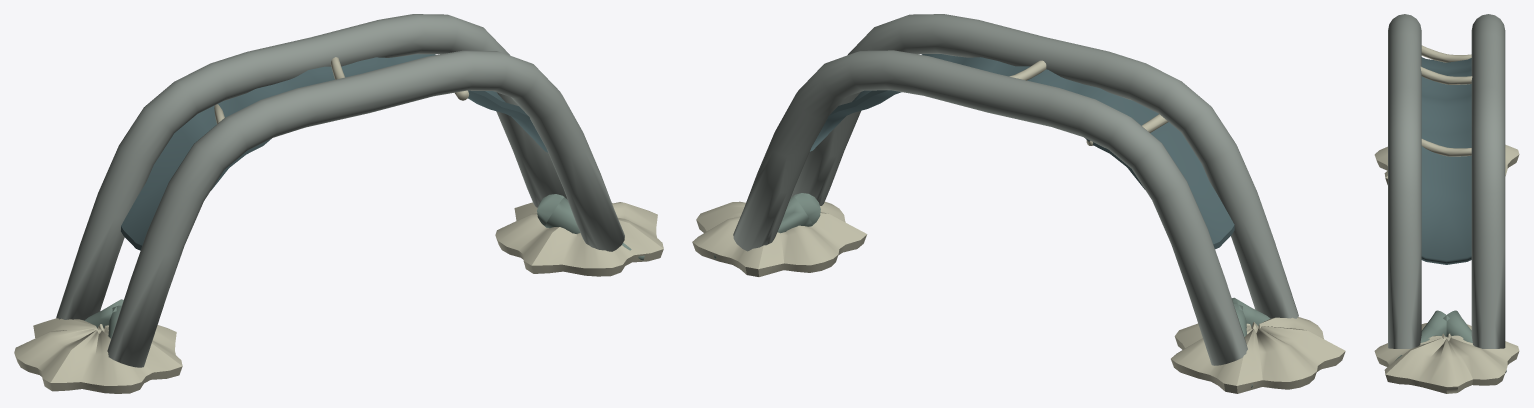
File: arched_tendril_bridge_lod1.glb
3 renders of one model, left to right at view 1: azimuth 30°, elevation 25°; view 2: azimuth 150°, elevation 25°; view 3: azimuth 270°, elevation 25°, orthographic. The views are drawn at different scales.
Visible parts, largest first — view 1: LOD1_tissue, LOD1_calcite, LOD1_tissue_fold, LOD1_tissue_mature; view 2: LOD1_tissue, LOD1_calcite, LOD1_tissue_fold, LOD1_tissue_mature; view 3: LOD1_tissue, LOD1_tissue_fold, LOD1_calcite, LOD1_tissue_mature.
Boxes of the visible parts, x1,y1,x2,y2 form: LOD1_tissue: (56,14,624,367); LOD1_calcite: (14,57,663,393); LOD1_tissue_fold: (121,54,547,250); LOD1_tissue_mature: (84,194,644,338); LOD1_tissue: (733,14,1298,365); LOD1_calcite: (692,60,1345,393); LOD1_tissue_fold: (810,54,1234,249); LOD1_tissue_mature: (714,193,1270,387); LOD1_tissue: (1388,14,1505,348); LOD1_tissue_fold: (1421,57,1471,264); LOD1_calcite: (1374,45,1519,393); LOD1_tissue_mature: (1395,310,1506,372).
Size of the model in its own units: 5.23 by 1.95 by 1.25.
